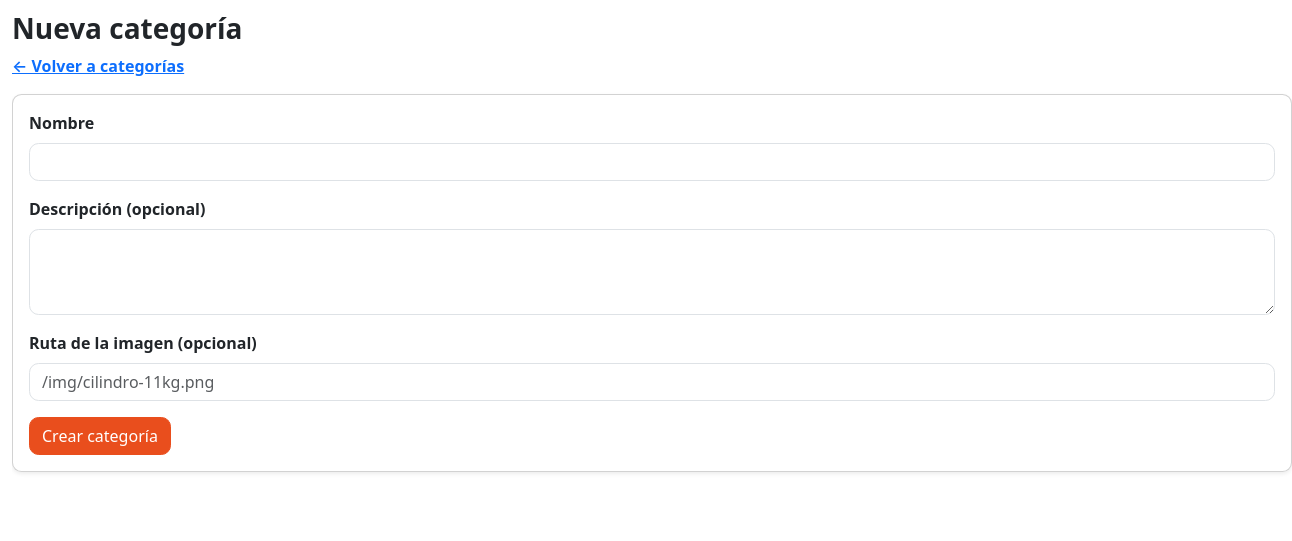
it: pages/admin/CategoriaForm › muestra el error y no guarda si el nombre ya existe
Type "accesorios" into the field labelled "Nombre".
click(652, 162); type("accesorios")  # box [29,143,1275,181]
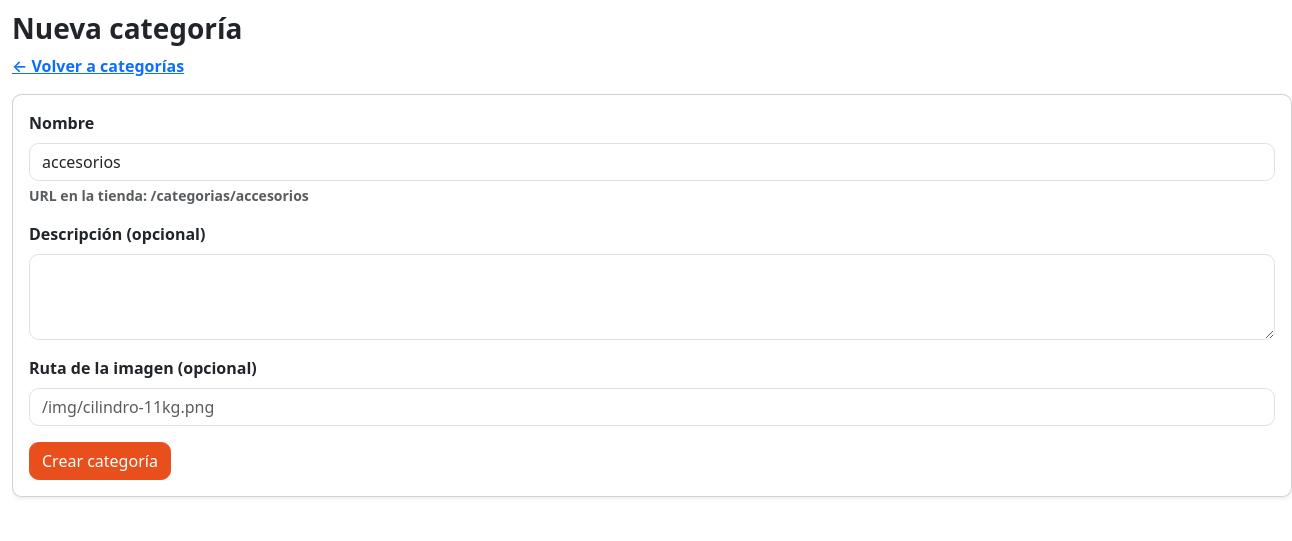
Click the button "Crear categoría".
click(100, 461)  # box [29,442,171,480]
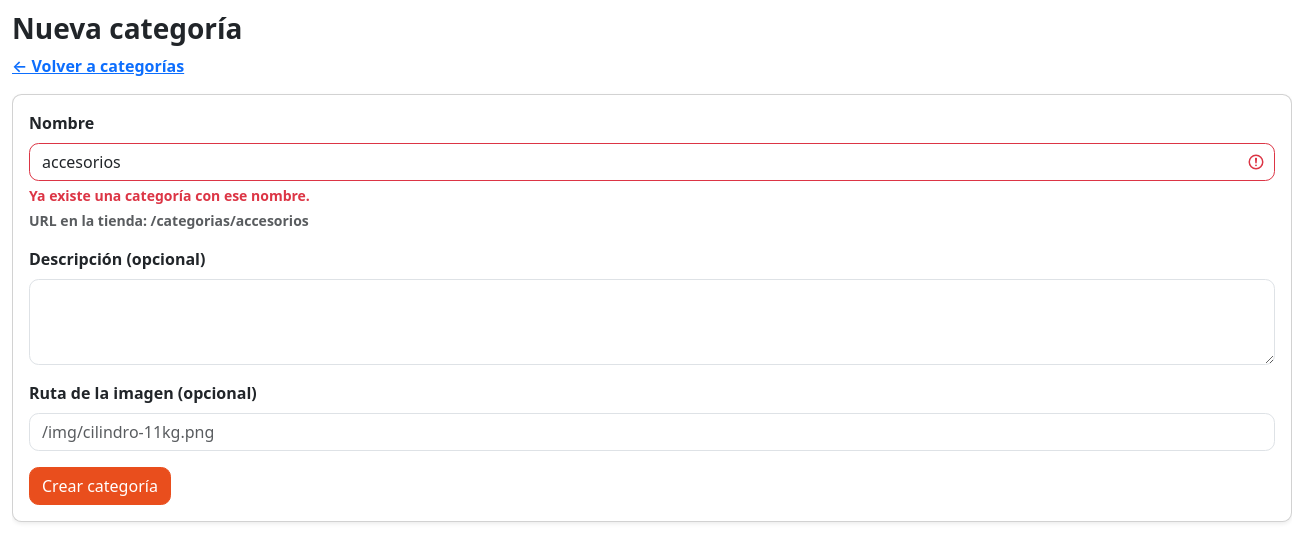
Result: the text "Ya existe una categoría con ese nombre." is shown at [29,186,310,205]
